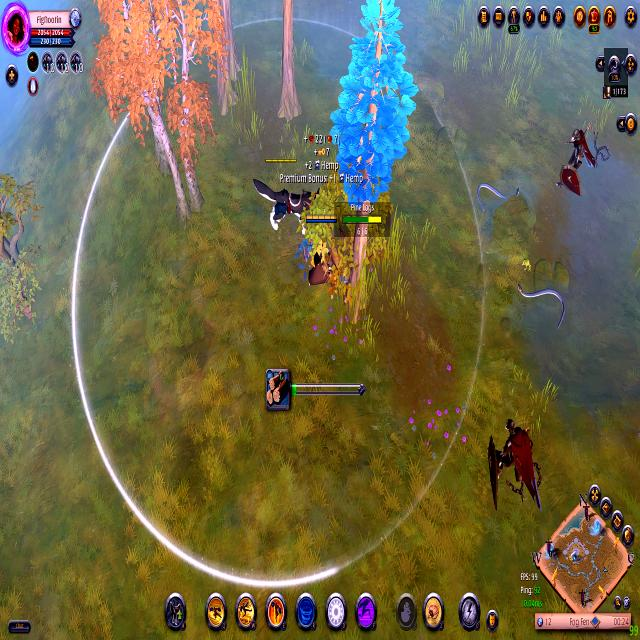ore: (484, 406, 544, 526), (554, 118, 600, 198)
red: (304, 211, 344, 302)
wisp caged: (90, 0, 231, 228), (327, 0, 420, 325), (195, 0, 249, 116), (268, 0, 306, 130)
